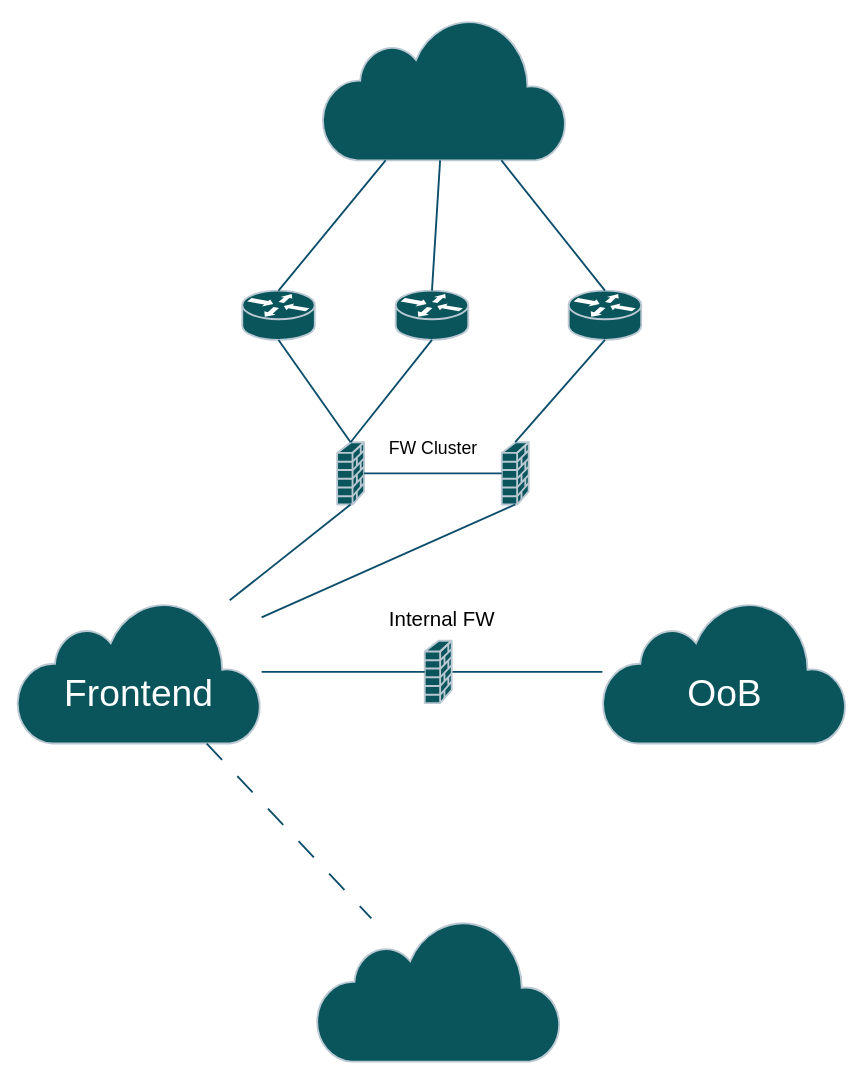
Image size: 864x1078. Some labels were removed from this diagram. The centre of each missing label's shape, as x and y in pixels:
Backend: [438,989]
WAN: [444,88]
